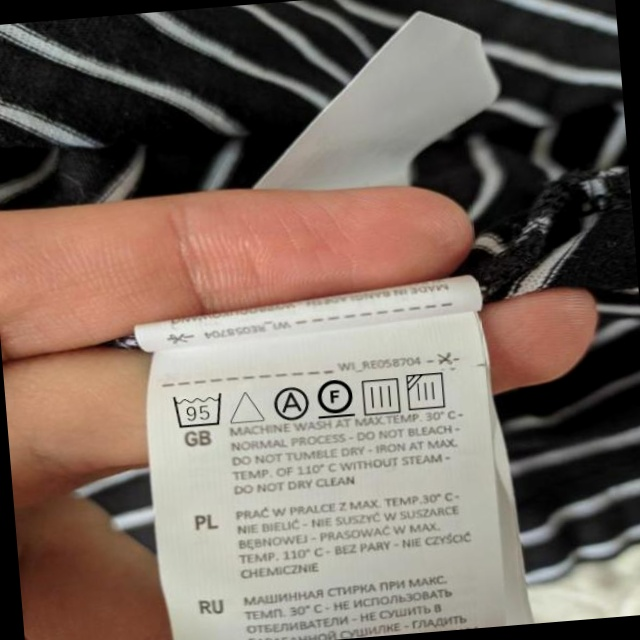95C: (170, 389, 227, 430)
bleach: (228, 385, 264, 427)
drip_dry: (359, 374, 404, 417)
drip_dry_in_shade: (405, 369, 452, 414)
dry_clean: (270, 384, 310, 422)
dry_clean_petrol_only: (316, 374, 356, 420)
